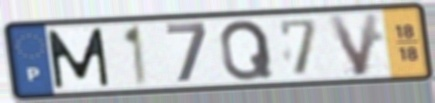1: (121, 21, 149, 89)
7: (162, 19, 212, 85), (278, 17, 320, 78)
M: (44, 26, 113, 91)
Q: (218, 18, 277, 83)
V: (324, 10, 382, 79)
